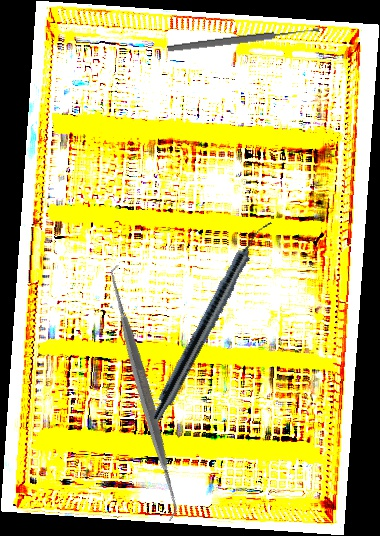Handpiece: (148, 213, 274, 426)
Spatula Surgical: (12, 263, 276, 523)
Surgical Spoon: (167, 25, 320, 54)
